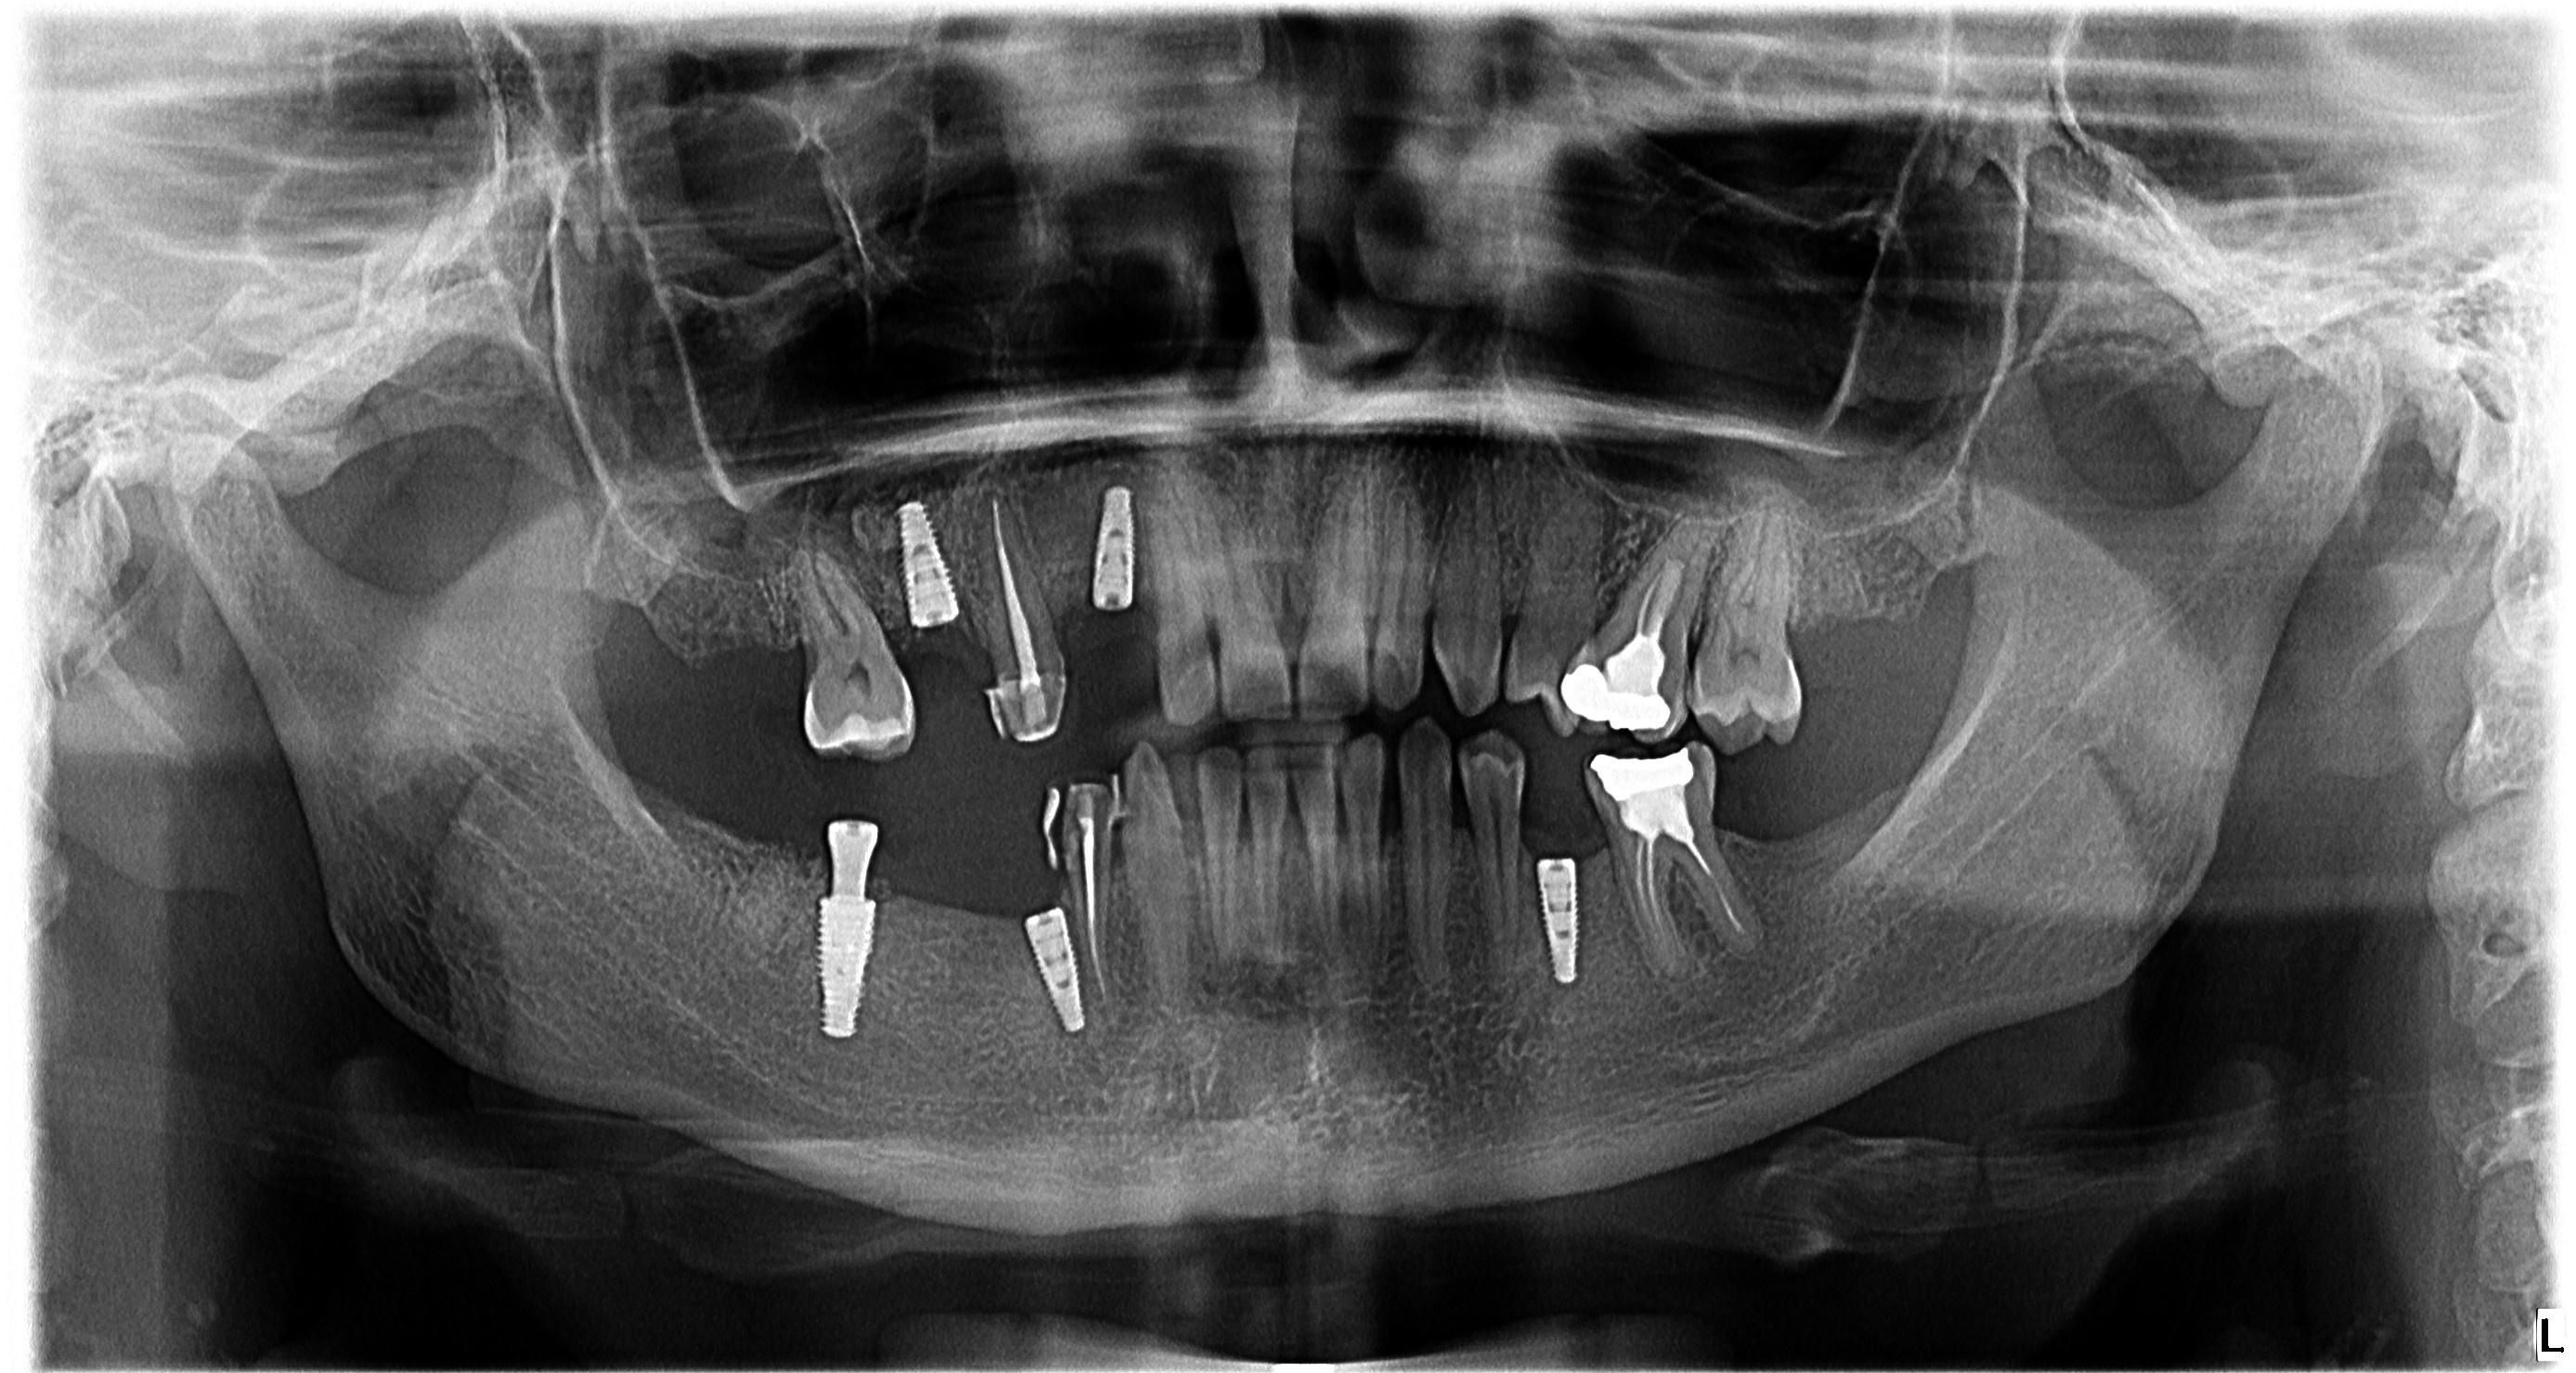END: (1593, 506, 1731, 680), (1617, 826, 1758, 983), (968, 465, 1055, 685), (1049, 859, 1119, 1002)
IMP: (872, 484, 983, 652), (797, 889, 894, 1048), (1070, 468, 1152, 637), (1012, 899, 1101, 1053), (1521, 843, 1603, 1000)
OBT: (1574, 743, 1721, 845), (1544, 656, 1693, 748), (1032, 763, 1133, 864), (978, 649, 1077, 751)
